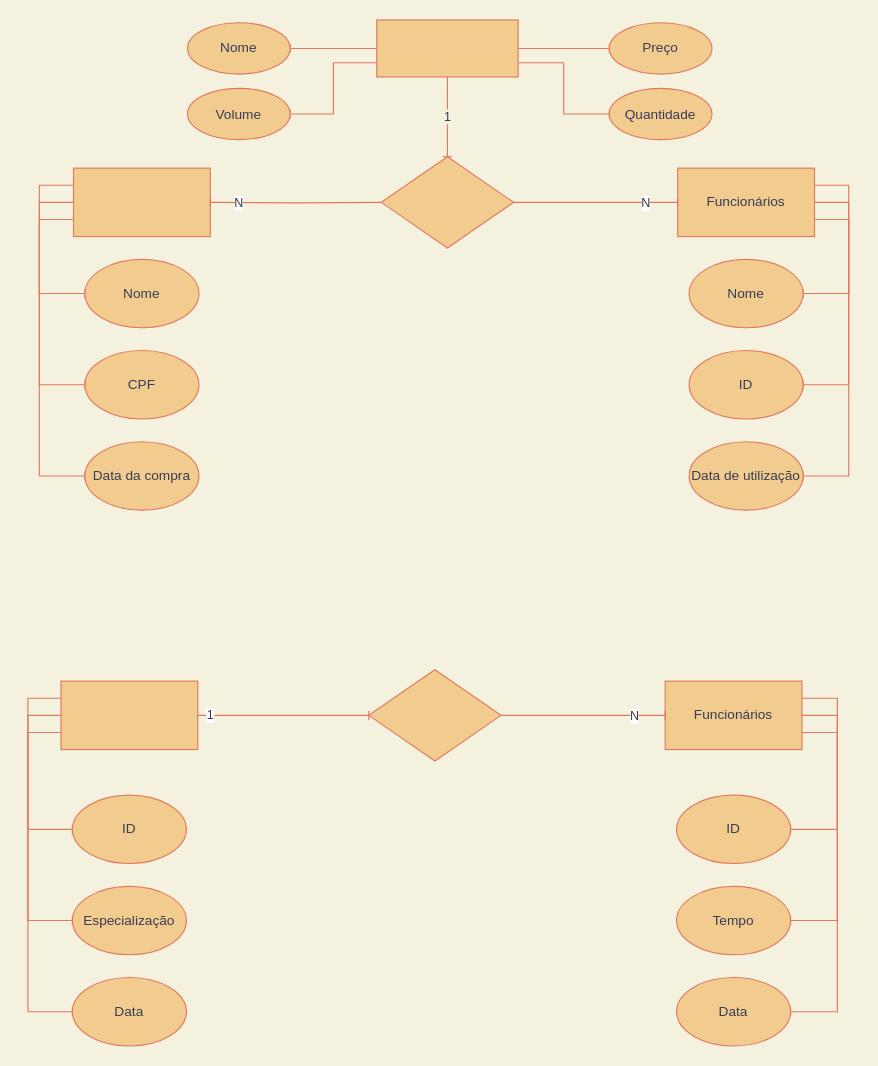
The diagram is 878 pixels wide and 1066 high, and some of its shapes have lost their labels. Each missing label, with the centre of its shape:
"Ação" goes at point (447, 202).
"Comprador" goes at point (141, 202).
"Estoque" goes at point (447, 48).
"Ordens" goes at point (434, 715).
"Superior" goes at point (129, 715).
